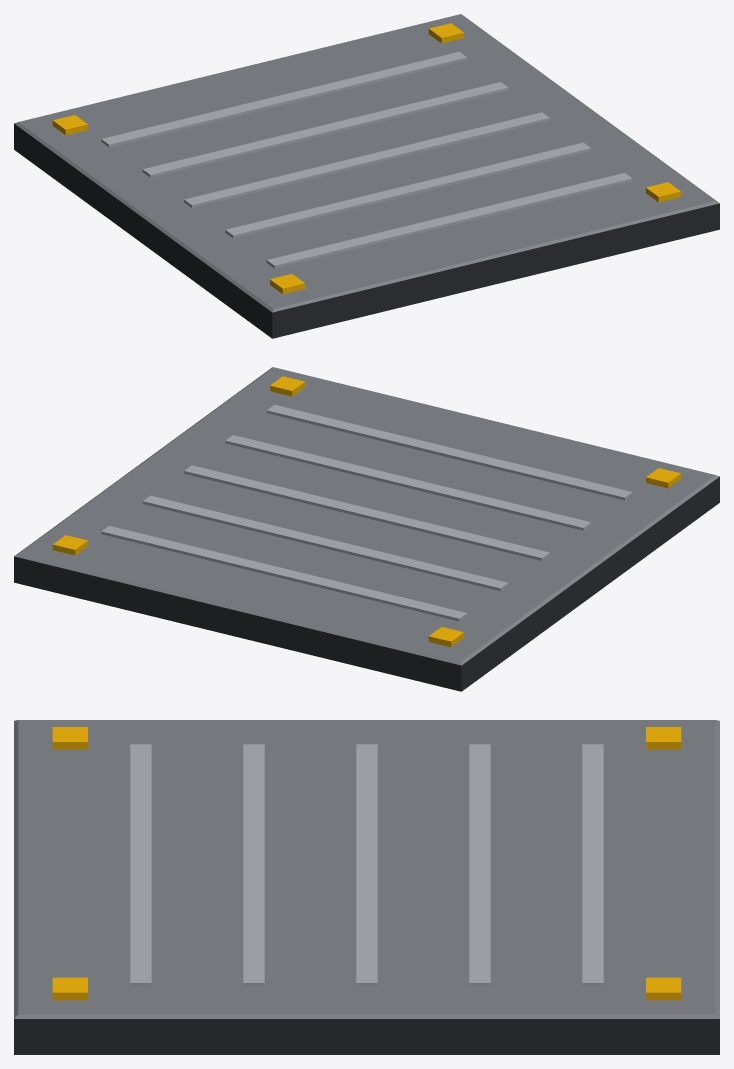
File: boden_stahl_b.glb
3 views of the same model, one above another, from view 1: azimuth 30°, elevation 25°; view 2: azimuth 150°, elevation 25°; view 3: azimuth 270°, elevation 25° (orthographic). The views are drawn at different scales.
Parts seen in each view (by area): view 1: boden_stahl_b; view 2: boden_stahl_b; view 3: boden_stahl_b.
Part boxes in pixels (<box>): boden_stahl_b: <box>14,14,719,338</box>; boden_stahl_b: <box>14,367,719,691</box>; boden_stahl_b: <box>14,720,719,1054</box>.
Bounding box in the file's own units: 1 × 0.072 × 1.
